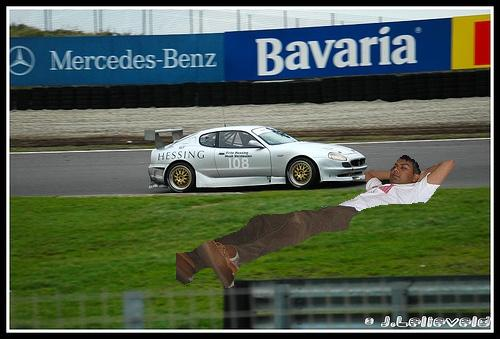tampered: (177, 156, 455, 288)
